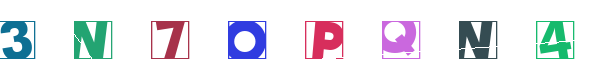3: (0, 0, 80, 80)
4: (436, 0, 516, 80)
7: (221, 0, 301, 80)
N: (206, 0, 286, 80), (352, 0, 432, 80)
O: (251, 0, 331, 80)
P: (256, 0, 336, 80)
Q: (267, 0, 347, 80)
